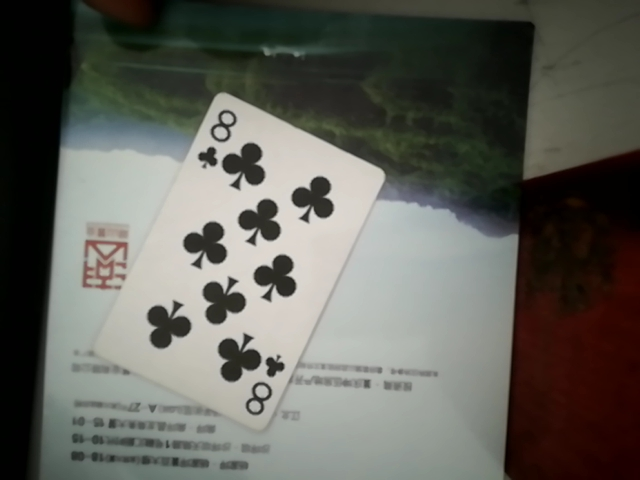mh 8: (69, 88, 387, 420)
